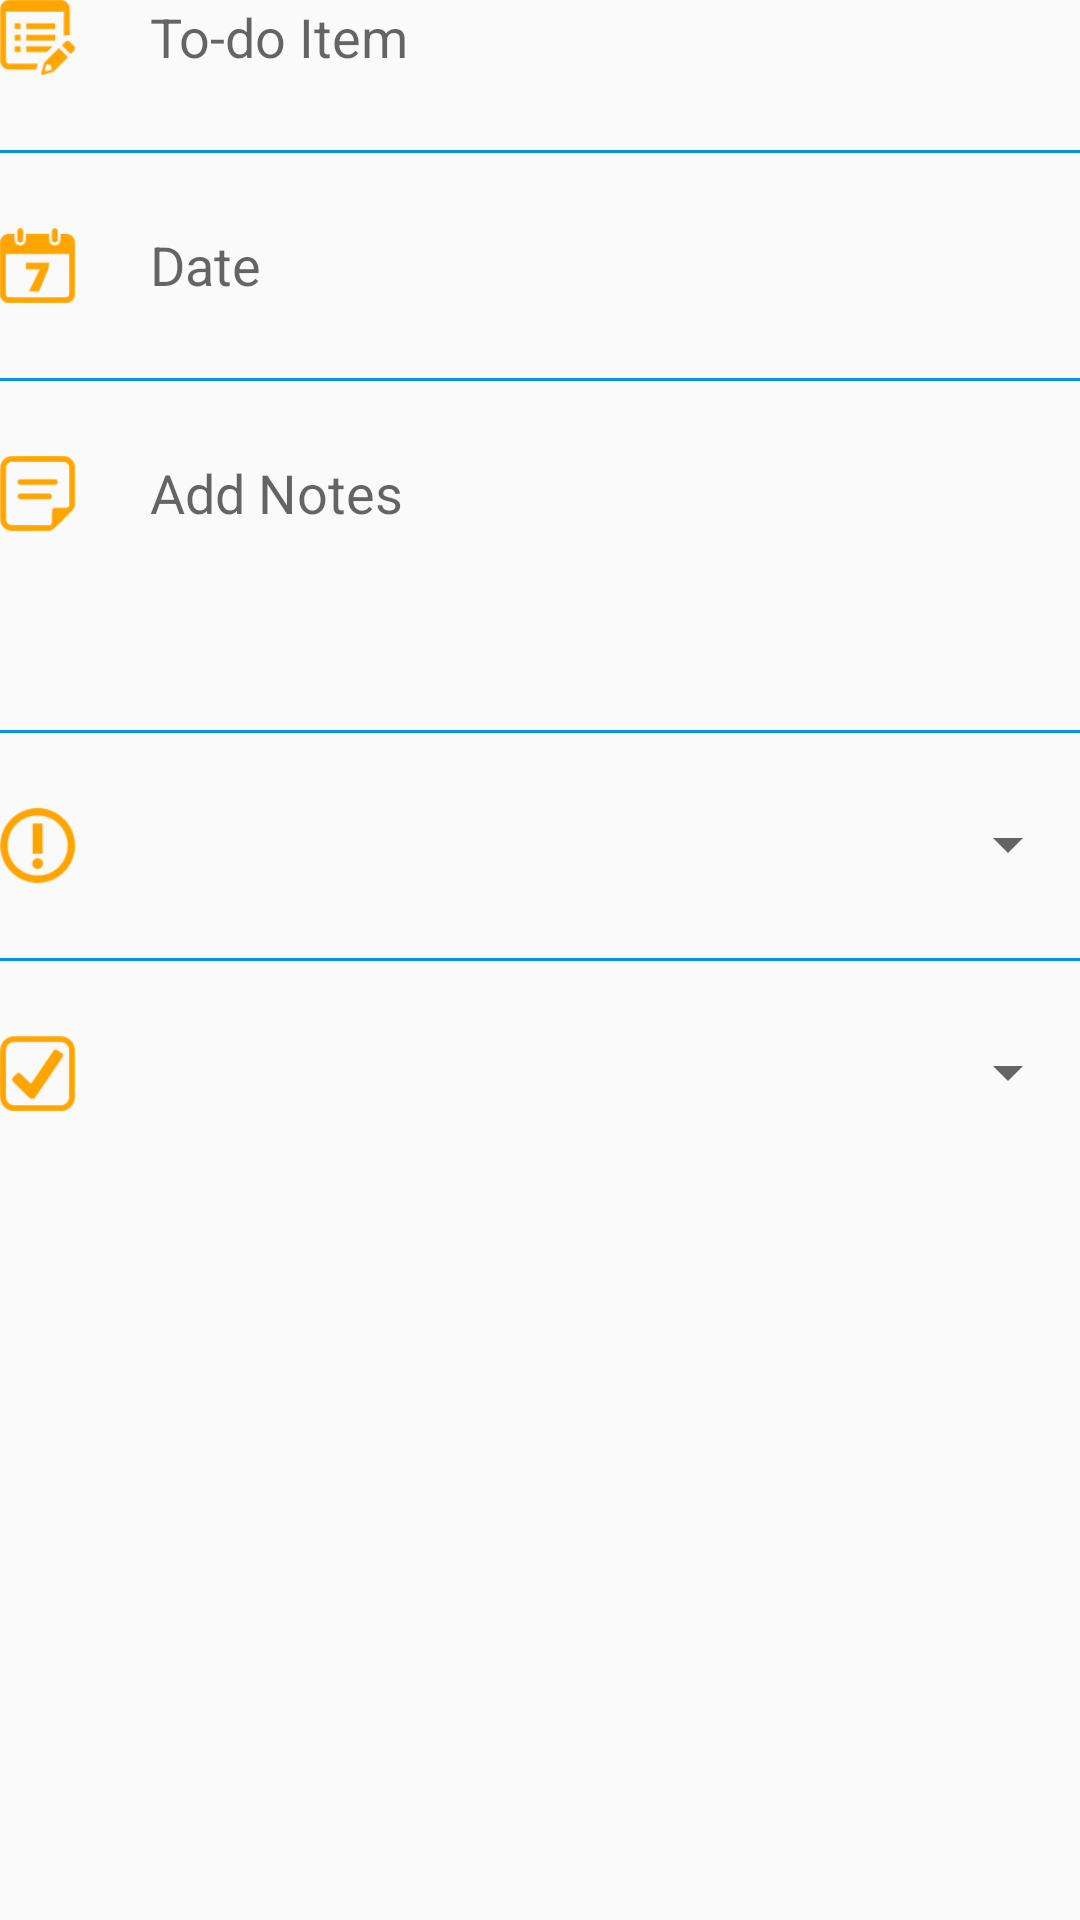

Where icons sit on this 1080px x 1920px app screen, as (x1, y1, x2, y2):
title: (0, 0, 75, 75)
